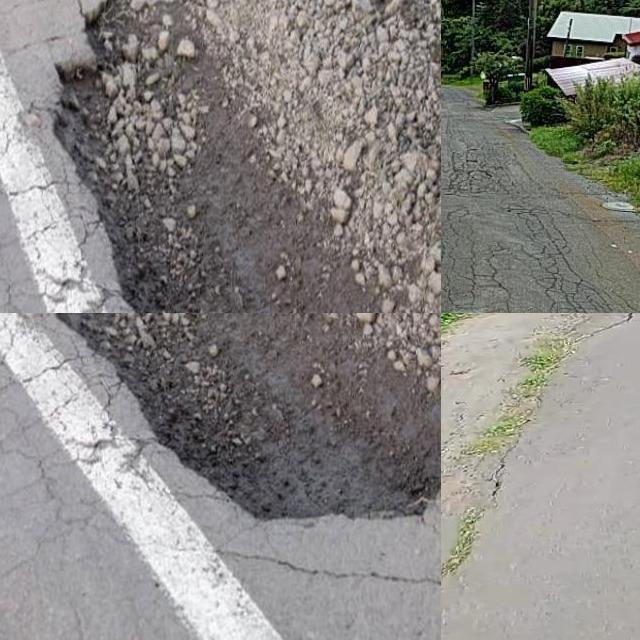Pinggir: (35, 0, 404, 313), (51, 313, 441, 533), (441, 313, 640, 466)
Retak Buaya: (441, 217, 640, 313)
